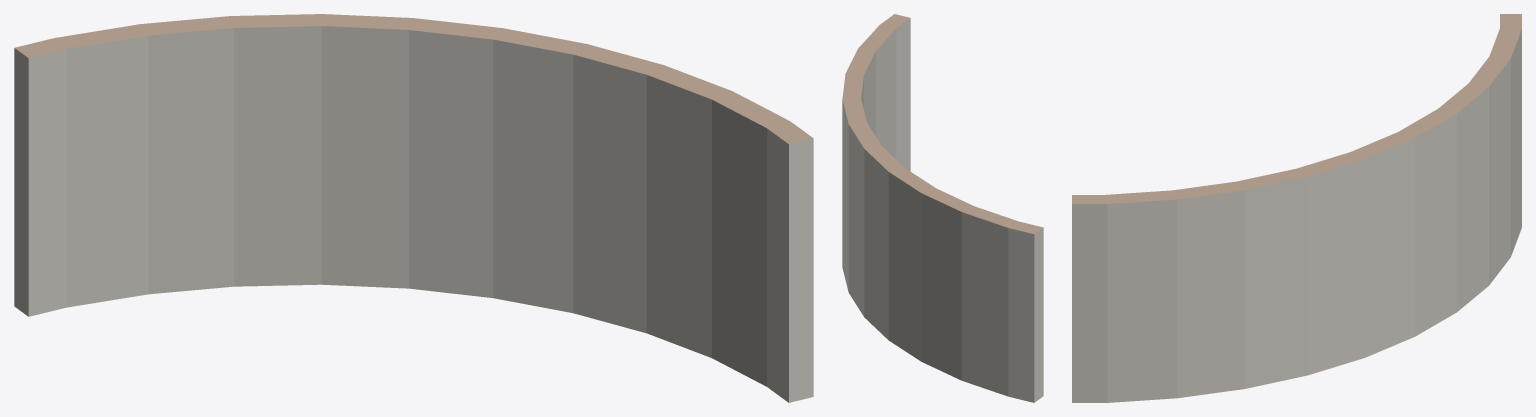
File: Structure_Wall_Curved_Large_Main.glb
The picture shows the model from 3 angles, left to right: view 1: azimuth 30°, elevation 25°; view 2: azimuth 150°, elevation 25°; view 3: azimuth 270°, elevation 25°; orthographic projection. The views are drawn at different scales.
Visible parts, largest first — view 1: Structure_Wall_Curved_Large_Main; view 2: Structure_Wall_Curved_Large_Main; view 3: Structure_Wall_Curved_Large_Main.
Part boxes in pixels (x1,y1,x2,y2): Structure_Wall_Curved_Large_Main: (14,14,813,402); Structure_Wall_Curved_Large_Main: (842,14,1043,402); Structure_Wall_Curved_Large_Main: (1072,14,1521,402).
Bounding box in the file's own units: 2.05 × 1 × 2.05.
